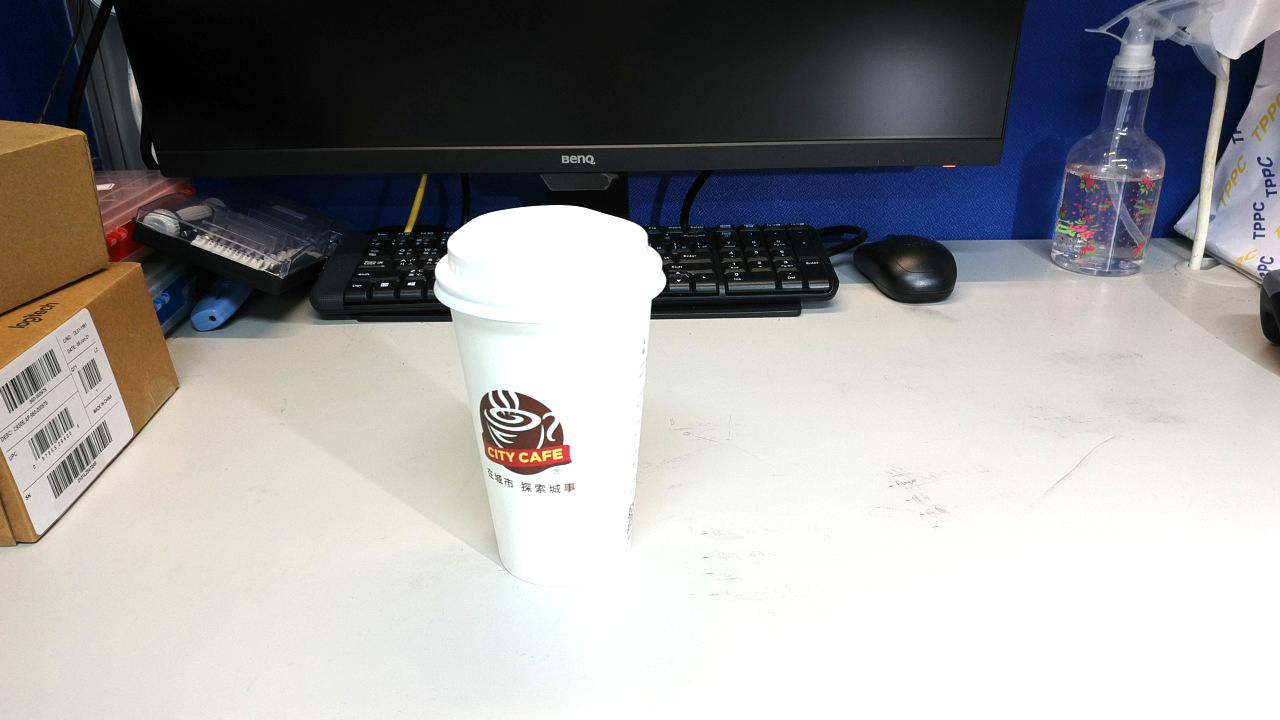long: (836, 421, 1120, 611)
